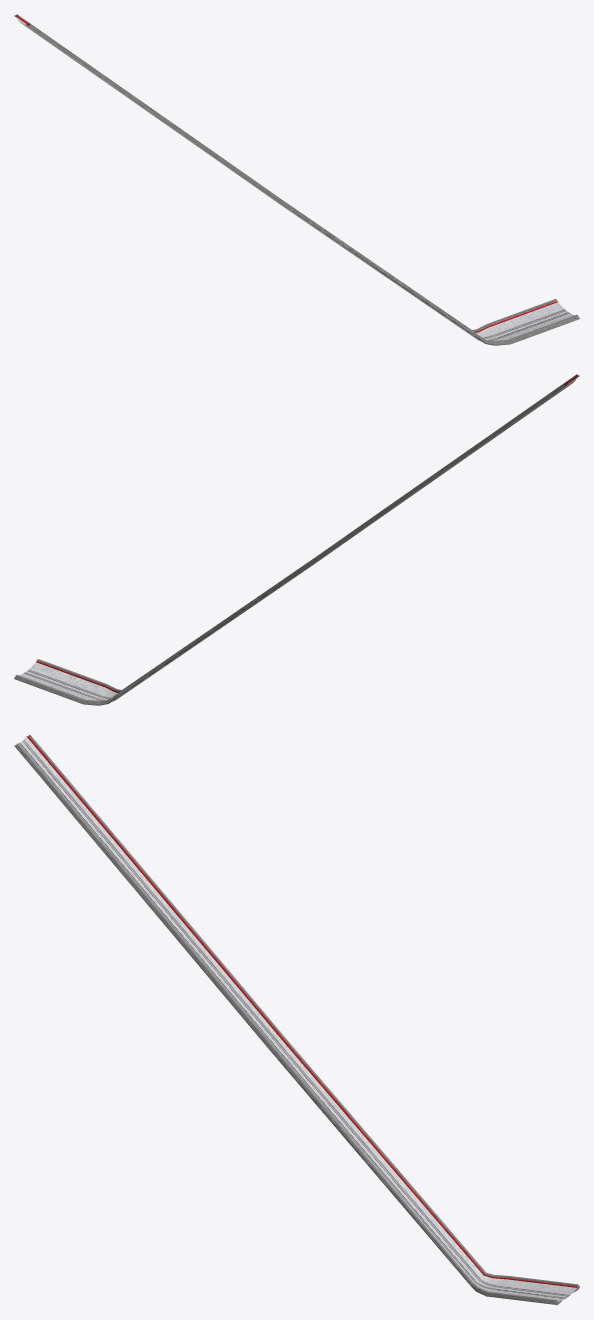
Rendered from grooooooove.fbx.
3 renders of one model, top to bottom at view 1: azimuth 30°, elevation 25°; view 2: azimuth 150°, elevation 25°; view 3: azimuth 330°, elevation 25°, orthographic.
Visible parts, largest first — view 1: pPlane1; view 2: pPlane1; view 3: pPlane1.
Part boxes in pixels (x1,y1,x2,y2): pPlane1: [14, 14, 579, 345]; pPlane1: [14, 374, 579, 705]; pPlane1: [14, 734, 579, 1305].
Size of the model in its own units: 1116 by 847 by 86.17.
Materials: 3 (2 with a texture image).
